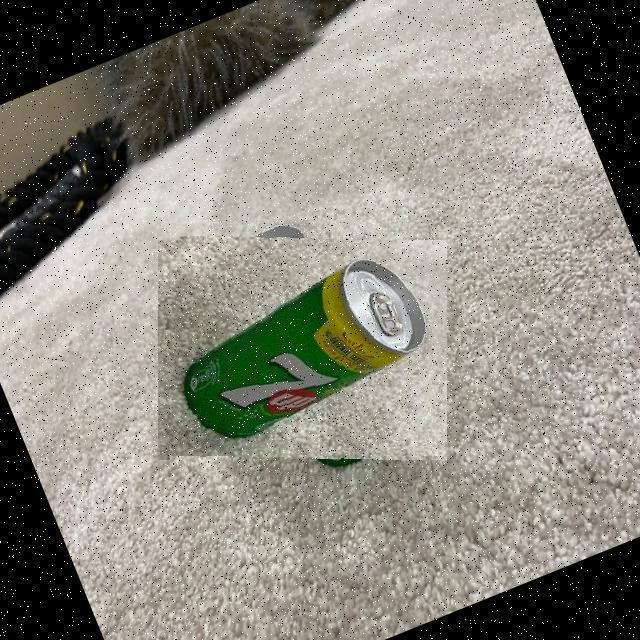recyclable: (172, 220, 432, 480)
